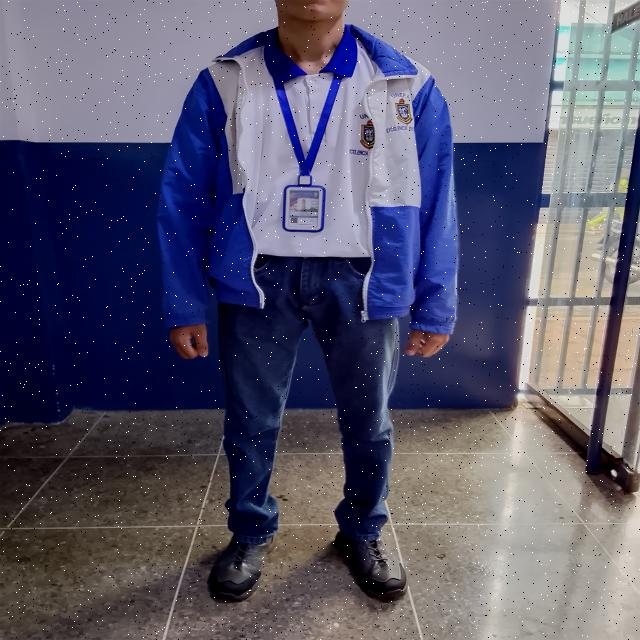carnet: (288, 189, 320, 228)
chaqueta_unefa: (155, 23, 461, 336)
